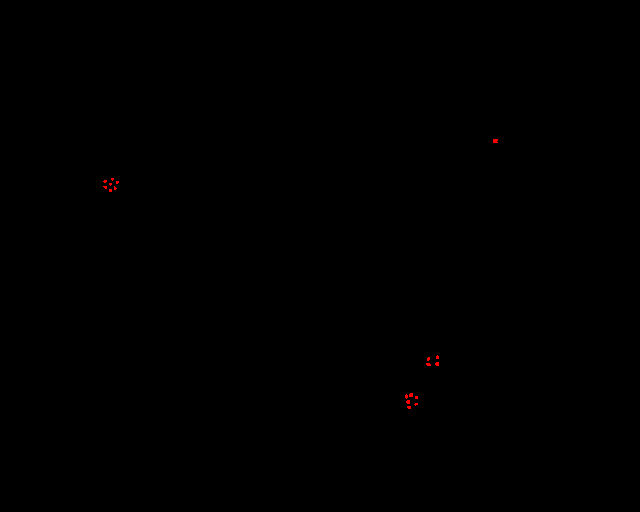Target: (493, 139, 498, 143), (435, 362, 439, 366), (409, 393, 413, 397), (406, 400, 410, 404), (426, 363, 431, 366), (405, 394, 408, 399), (103, 180, 107, 183), (103, 186, 107, 189), (114, 186, 117, 190), (436, 355, 439, 359), (427, 357, 430, 361), (414, 403, 418, 406), (407, 406, 411, 409), (111, 178, 114, 181), (116, 181, 119, 184), (109, 183, 112, 186), (109, 189, 112, 192), (415, 396, 418, 399)
